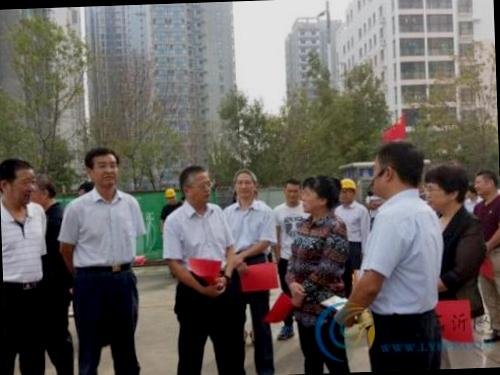no_helmet: (372, 137, 428, 202), (423, 158, 471, 217), (82, 142, 126, 196), (0, 155, 39, 211), (302, 169, 344, 219), (176, 160, 218, 206), (32, 172, 62, 212), (229, 166, 260, 204), (470, 166, 500, 200), (280, 176, 302, 207)
